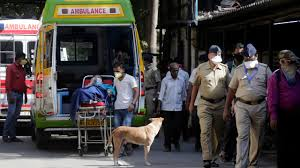mask: (278, 50, 298, 85), (241, 50, 259, 71), (206, 51, 223, 68), (109, 64, 124, 81), (234, 45, 244, 64), (168, 63, 180, 78), (15, 53, 28, 66), (90, 71, 102, 84)
